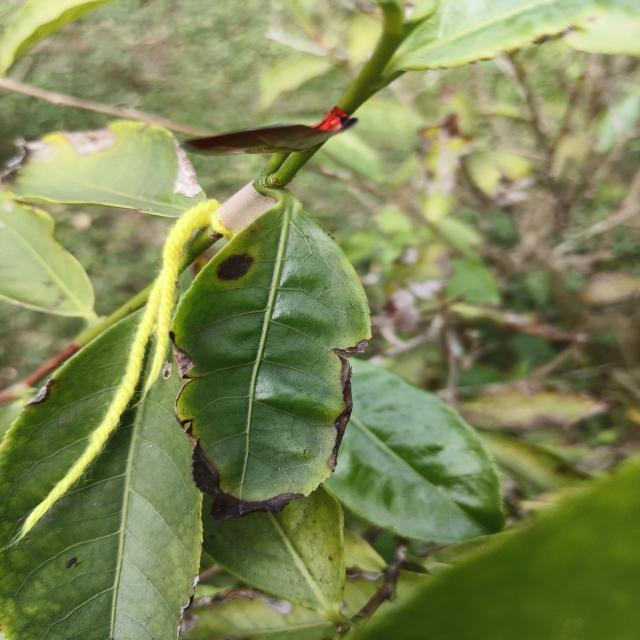Leaf: (0, 312, 202, 640), (171, 191, 370, 521), (361, 460, 640, 640), (324, 359, 504, 543), (5, 120, 206, 217), (203, 487, 345, 623), (385, 0, 640, 73), (0, 190, 97, 322), (260, 57, 332, 107)
